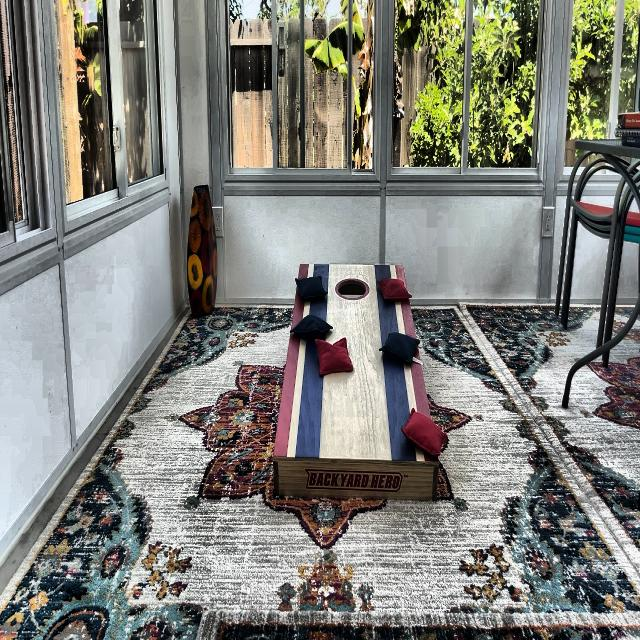blue-bean-bag: (378, 331, 419, 364), (290, 313, 333, 339), (296, 276, 328, 299)
board: (293, 265, 411, 459)
hole: (334, 276, 369, 301)
red-bean-bag: (402, 406, 448, 459), (315, 338, 354, 377), (377, 278, 412, 302)
